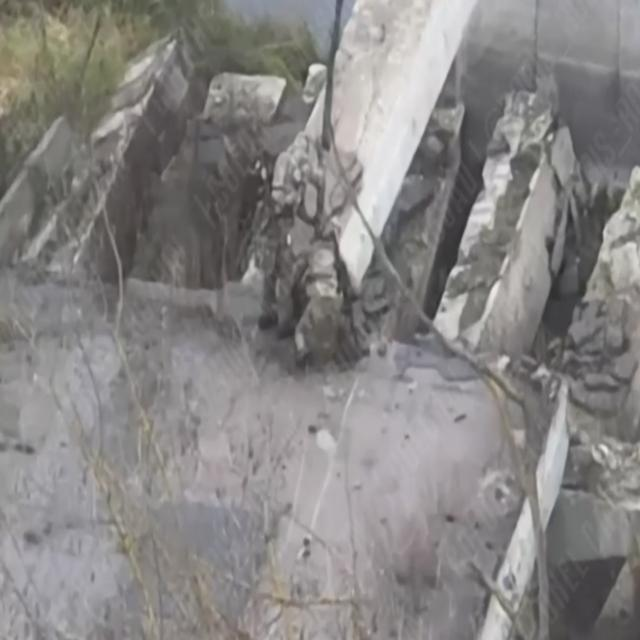infantry: (262, 129, 300, 333), (295, 251, 343, 372)
